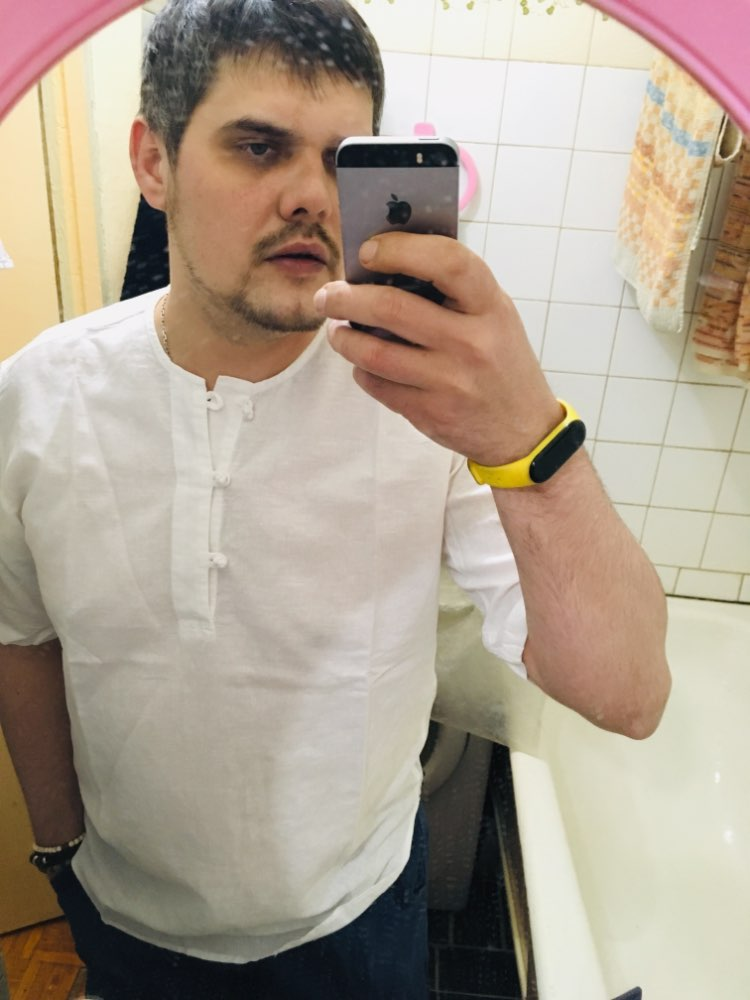shirts: (13, 286, 556, 958)
